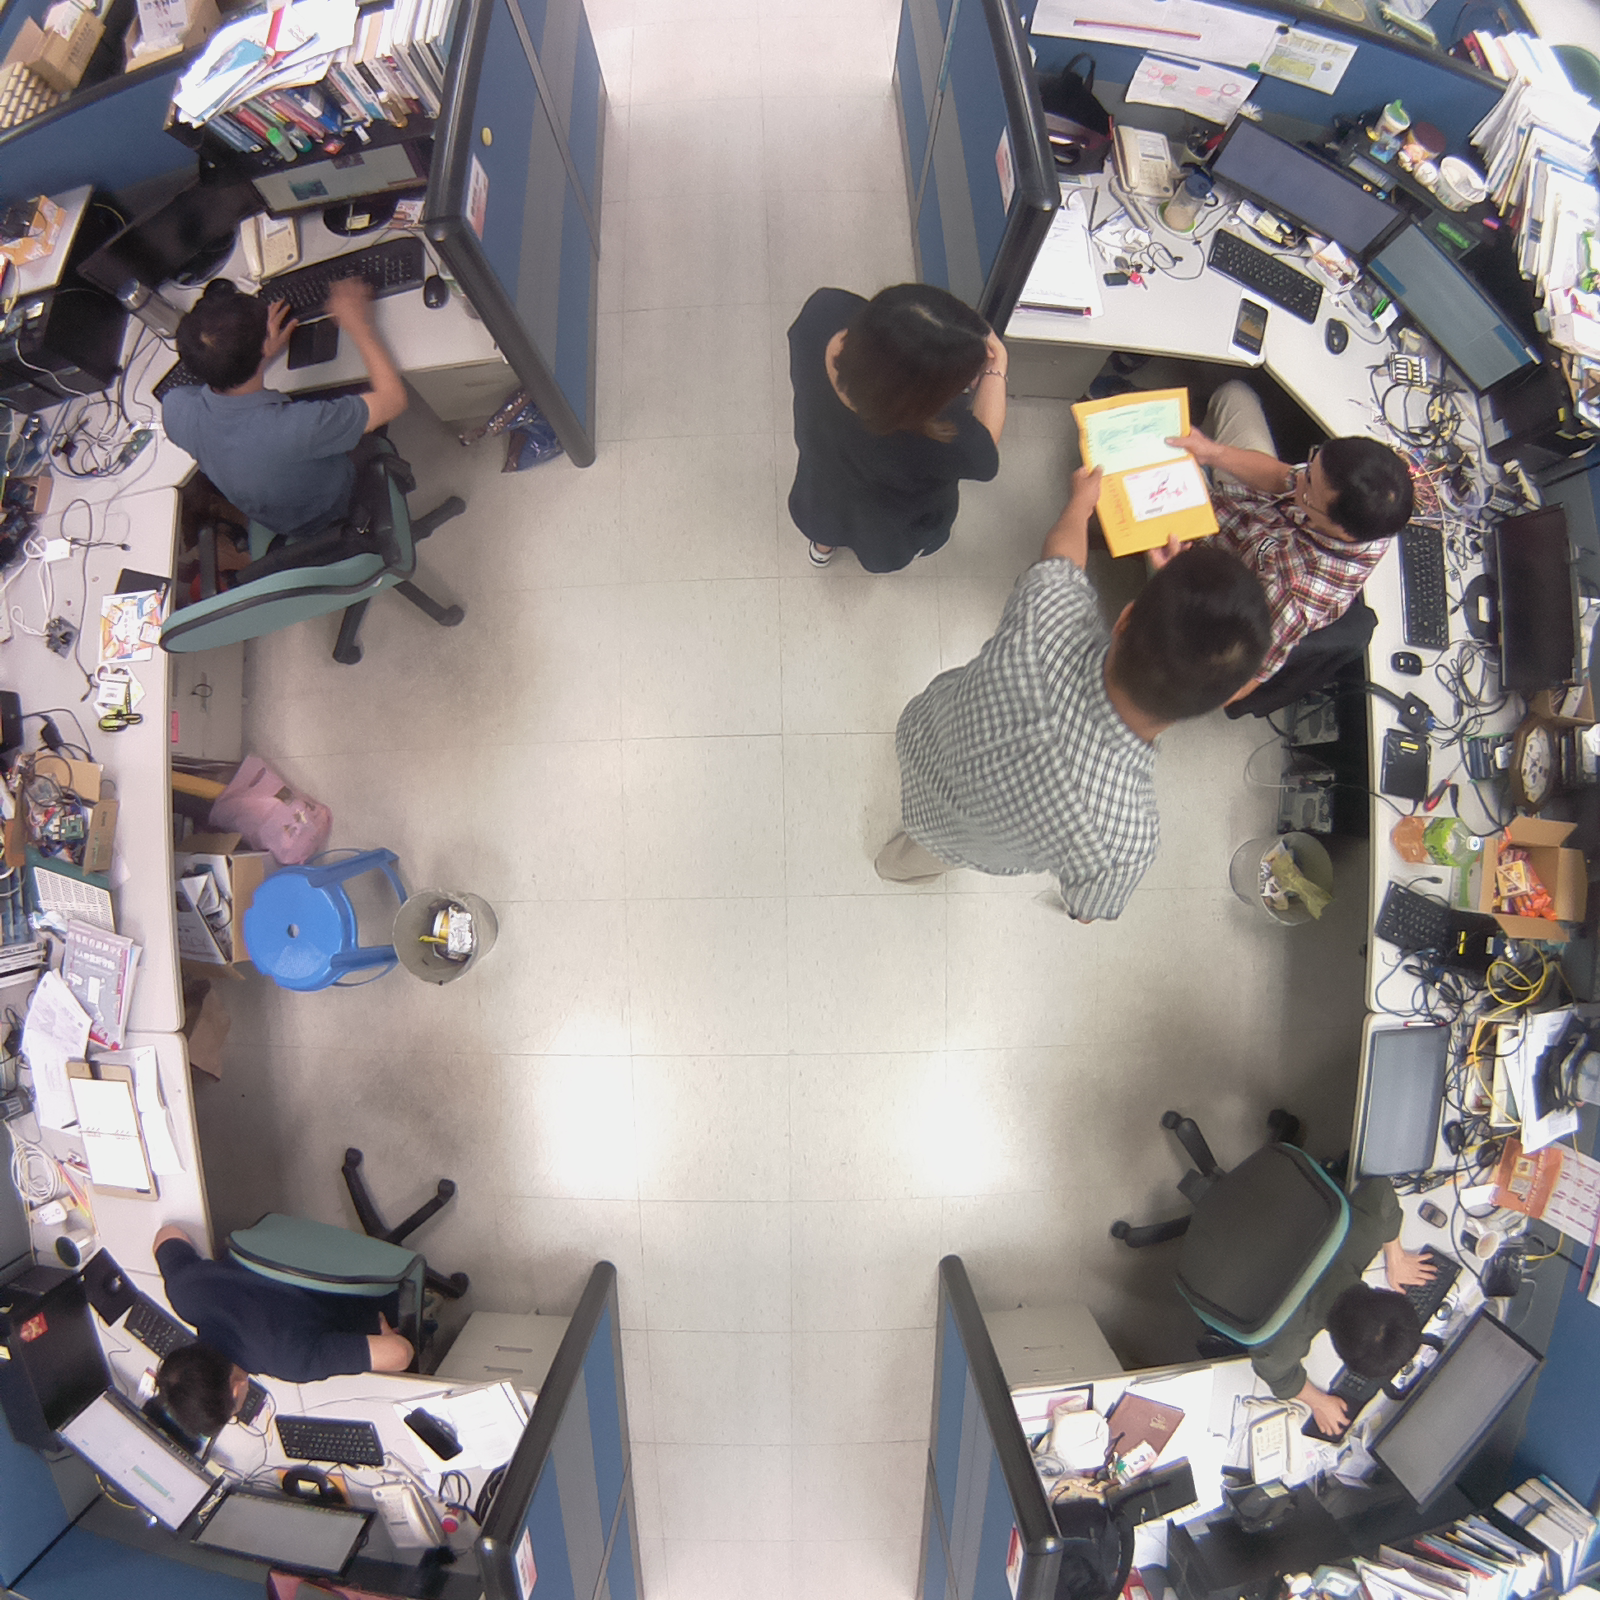head: (1108, 540, 1279, 725), (832, 274, 1003, 445), (1294, 427, 1419, 547), (163, 269, 279, 389), (146, 1329, 259, 1445), (1323, 1278, 1428, 1389)
sitting: (141, 286, 486, 683), (108, 1119, 496, 1460), (1104, 1081, 1445, 1447), (1156, 380, 1438, 687)
standing: (845, 498, 1282, 926), (775, 264, 1016, 584)
